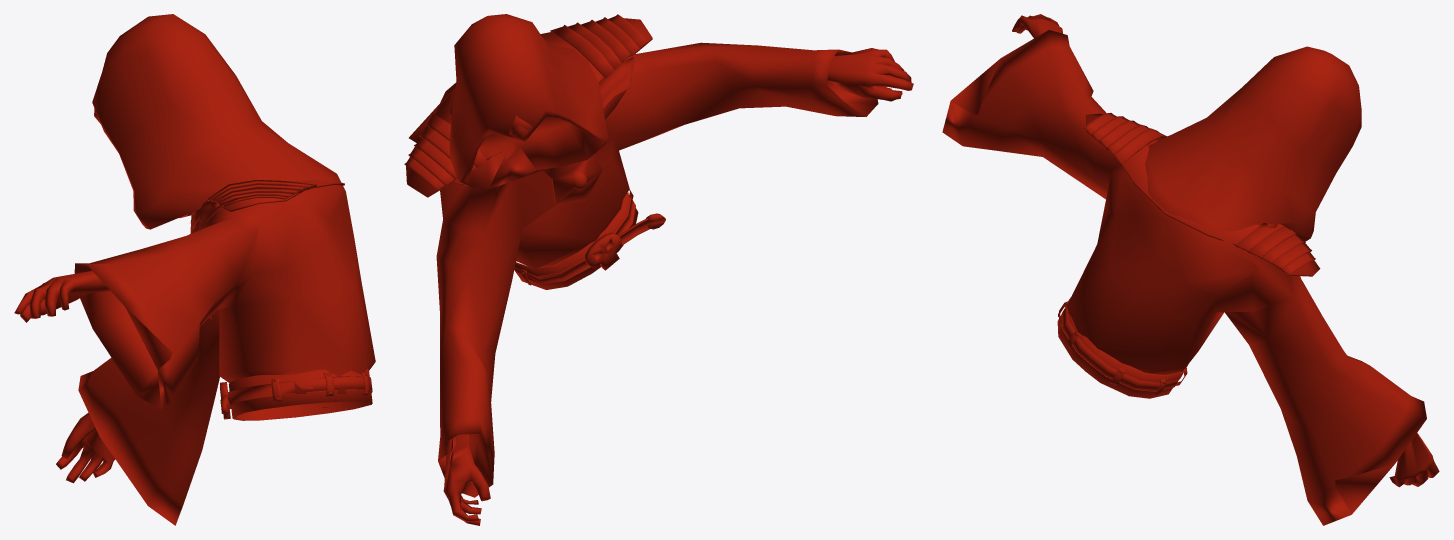
Rendered from top_000077.obj.
3 renders of one model, left to right at view 1: azimuth 30°, elevation 25°; view 2: azimuth 150°, elevation 25°; view 3: azimuth 270°, elevation 25°, orthographic. The views are drawn at different scales.
Visible parts, largest first — view 1: LowPoly_Warlock.000_Plane.005; view 2: LowPoly_Warlock.000_Plane.005; view 3: LowPoly_Warlock.000_Plane.005.
Part boxes in pixels (x1,y1,x2,y2): LowPoly_Warlock.000_Plane.005: (14, 14, 375, 525); LowPoly_Warlock.000_Plane.005: (404, 14, 913, 525); LowPoly_Warlock.000_Plane.005: (942, 14, 1439, 525).
Bounding box in the file's own units: 1.24 × 1.45 × 1.39.
